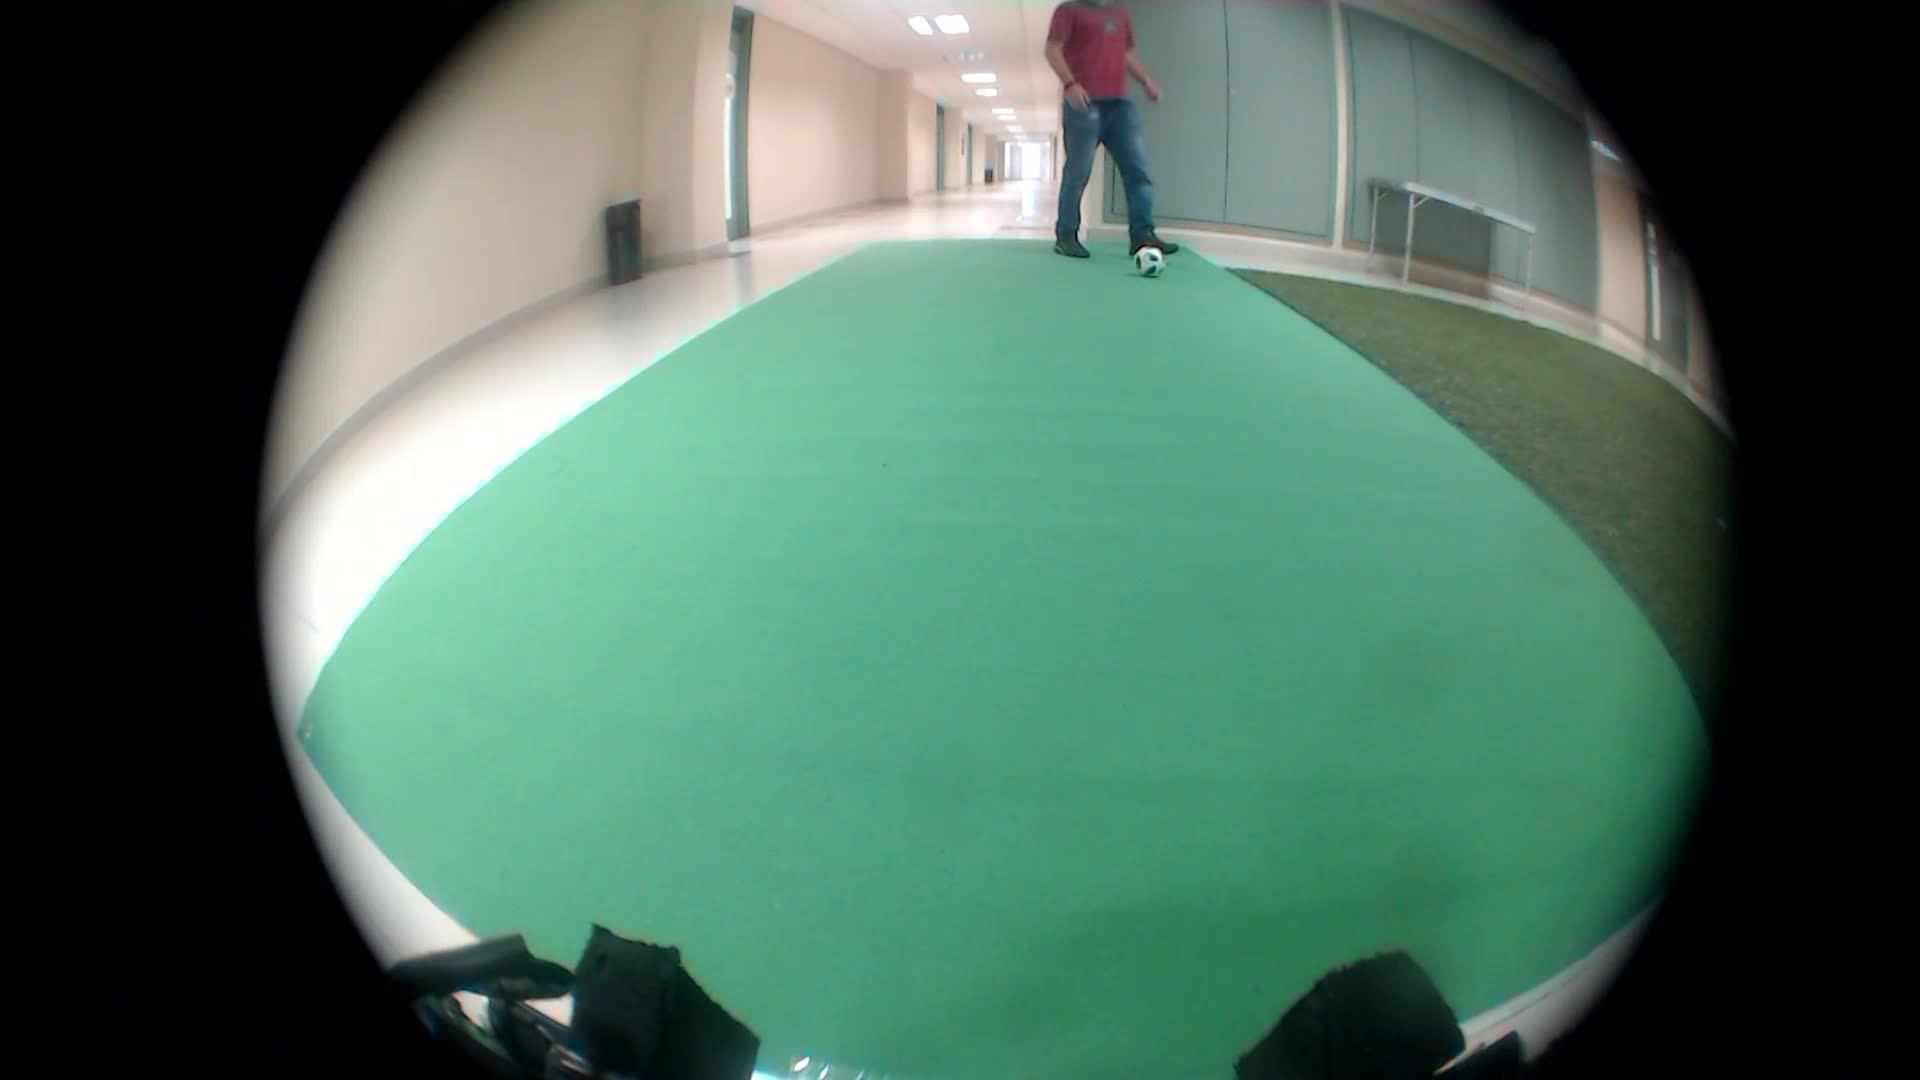ball: (1121, 236, 1168, 284)
